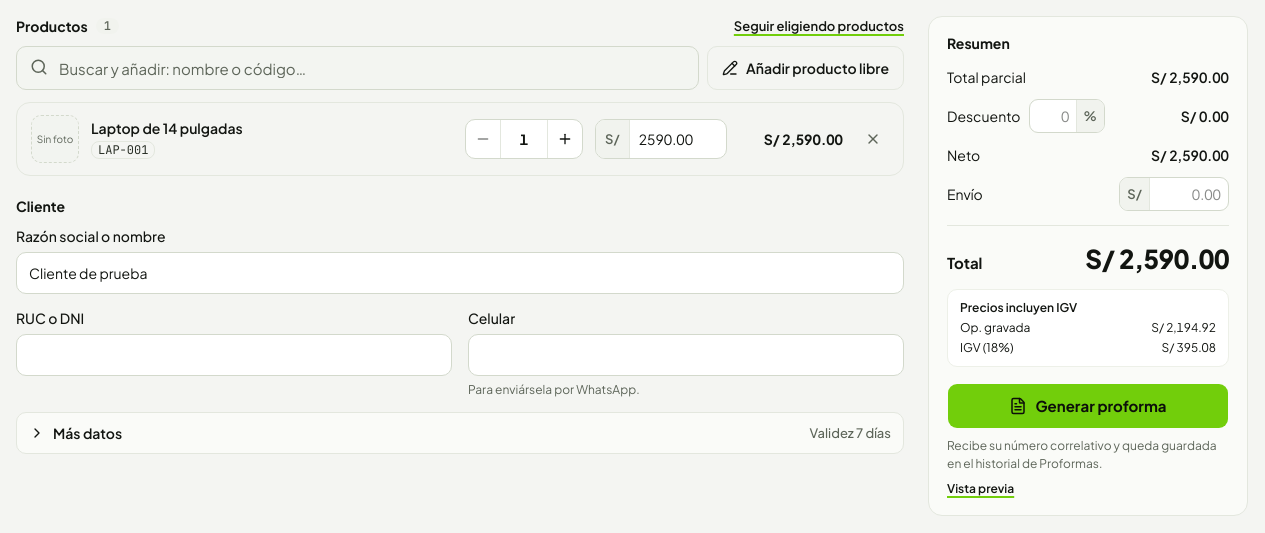
Test: ProformaPanel › si no se pudo guardar, la proforma se conserva para reintentar
What coordinates should you click on to do the following:
click the button "Generar proforma"
I would click on:
 (1088, 406)
Its box is 947,383 -> 1229,429.
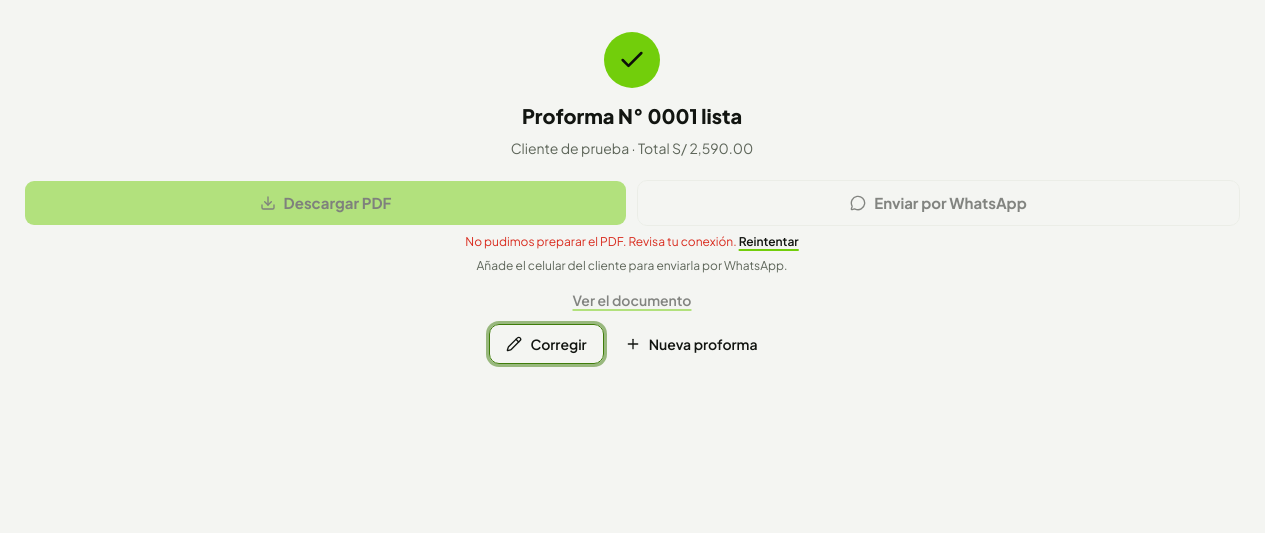
Now the message "No pudimos preparar el PDF. Revisa tu conexión. Reintentar" is shown, box 465,234 -> 799,250
